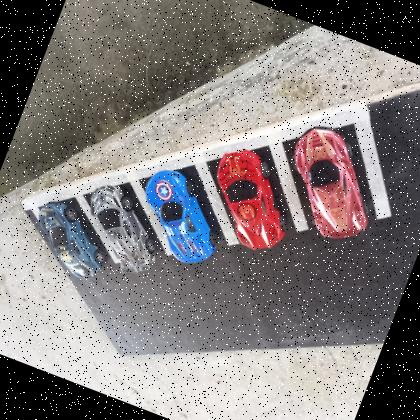Car: (269, 120, 393, 249), (194, 142, 308, 258), (126, 164, 236, 272), (70, 180, 174, 283), (23, 197, 118, 284)
